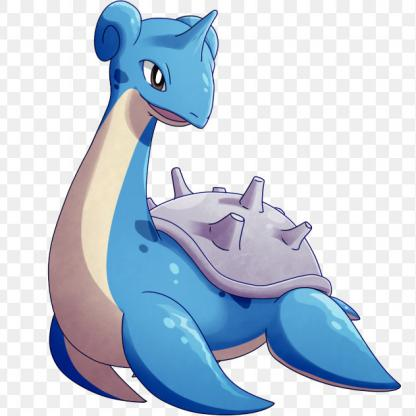Lapras: (8, 1, 416, 416)
